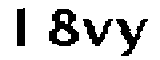8: (42, 7, 79, 48)
l: (9, 2, 35, 53)
v: (81, 17, 114, 49)
y: (114, 17, 149, 58)
